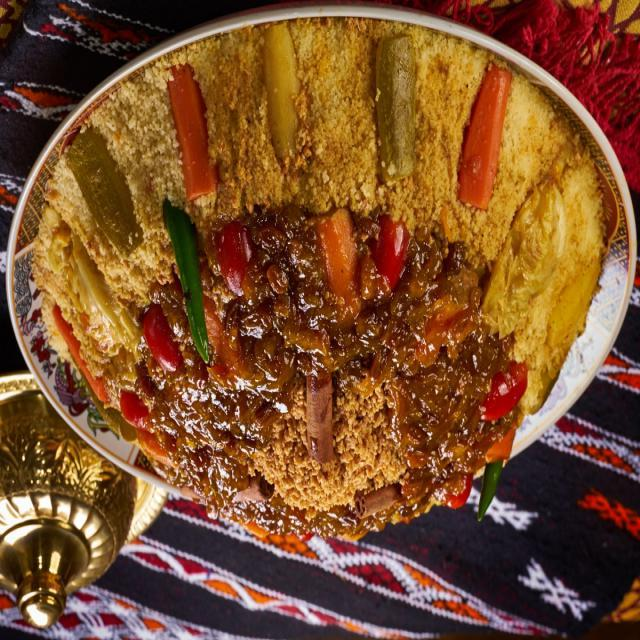Couscous: (11, 16, 634, 538)
